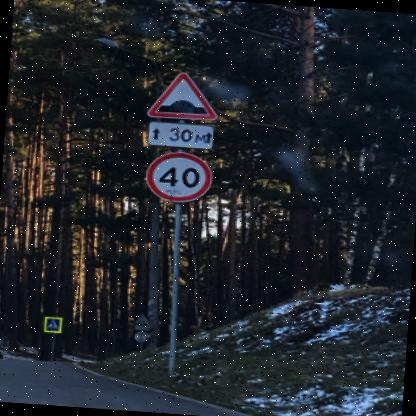crosswalk: (44, 318, 59, 332)
speedlimit: (144, 150, 212, 204)
